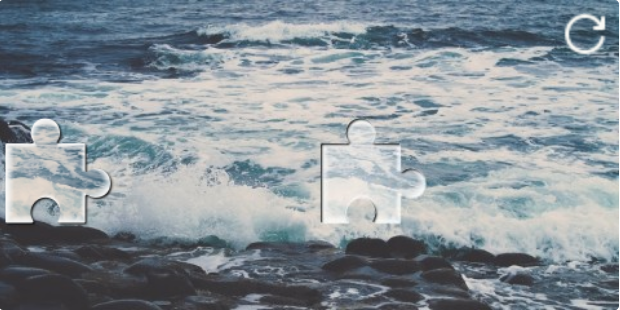target: (321, 119, 425, 223)
